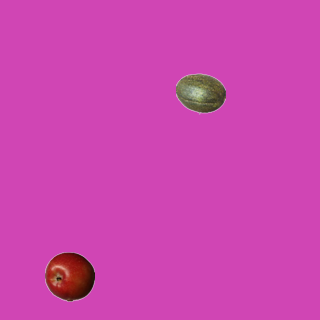Apple Braeburn: (44, 251, 94, 301)
Melon Piel de Sapo: (175, 68, 225, 118)
